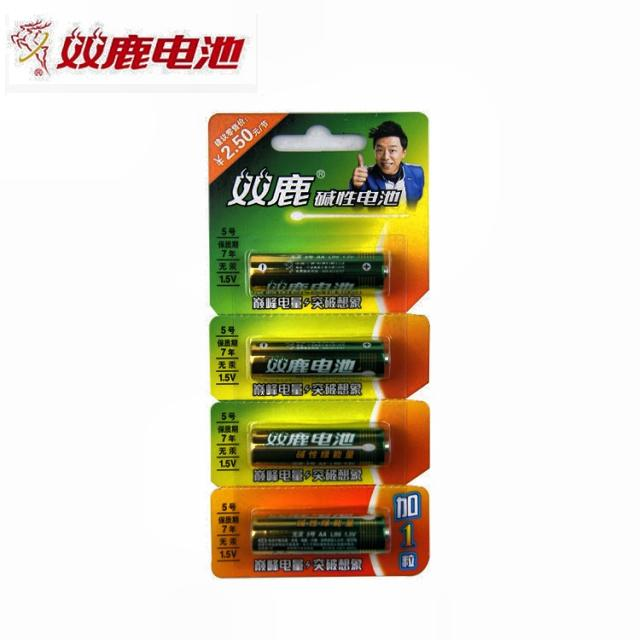Non-Valuable Waste - Batteries: (249, 252, 389, 294), (251, 515, 389, 554), (250, 340, 389, 378), (251, 429, 389, 466)
